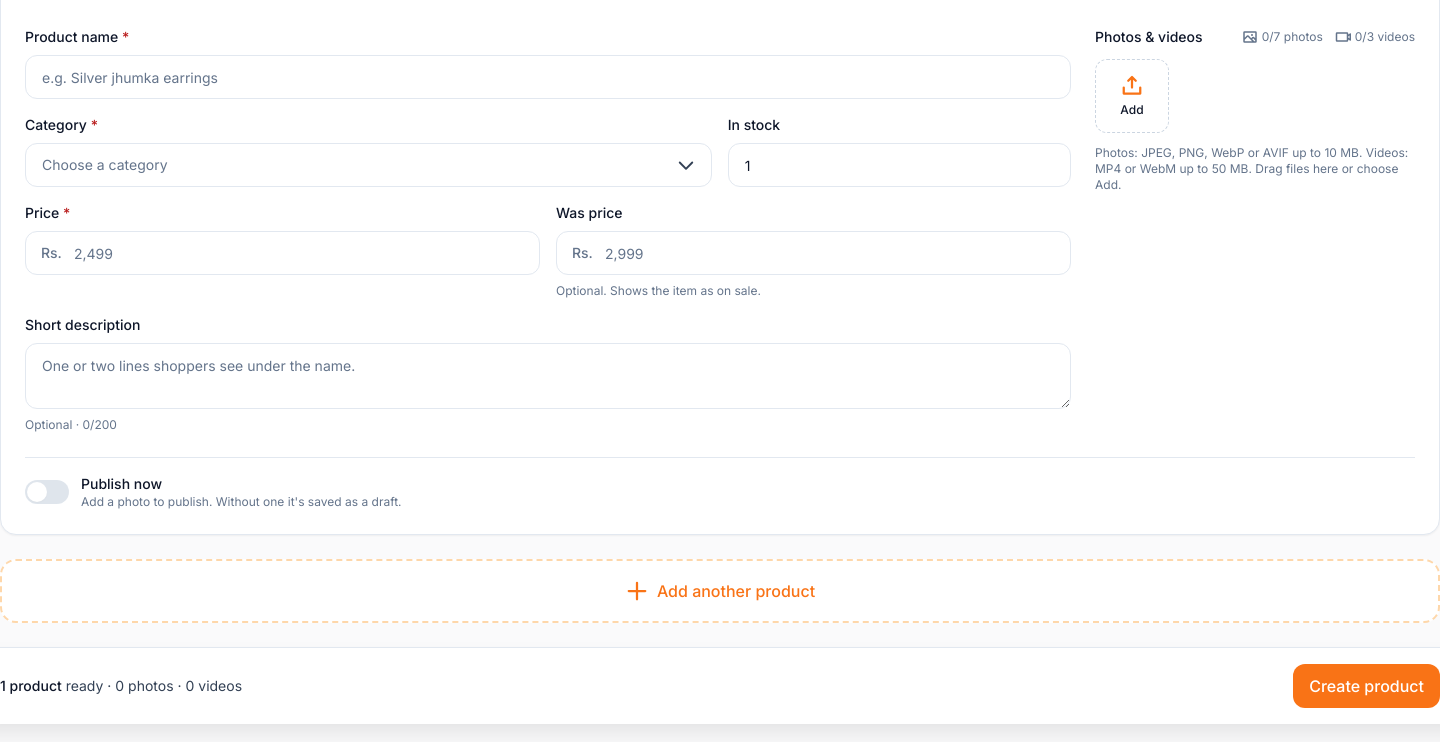
Scenario: BulkProductsForm › starts with one card and adds another at the end, focused, with the same category
Click the dropdown labelled "Choose a category" at (105, 164), box [25, 143, 712, 187]
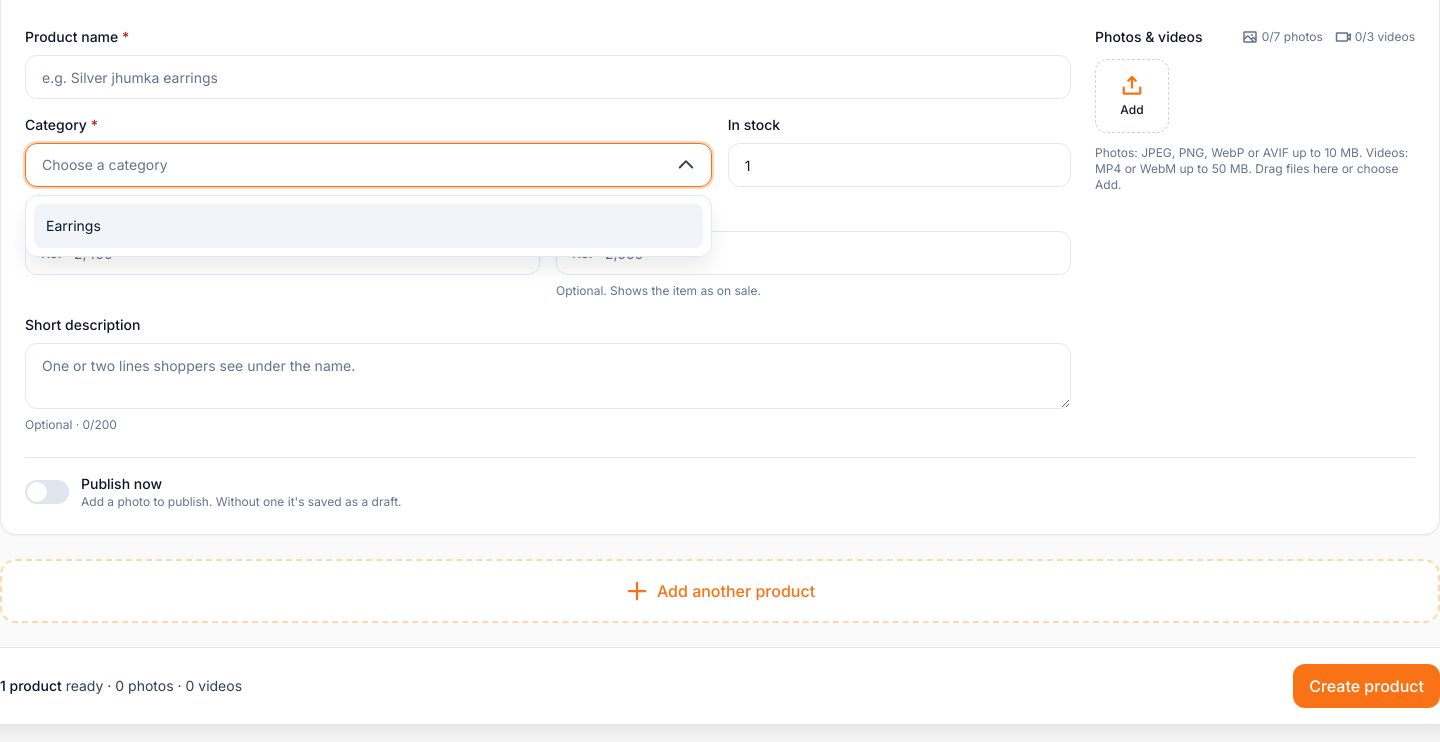
Click the option "Earrings" at (73, 226), box [34, 204, 703, 248]
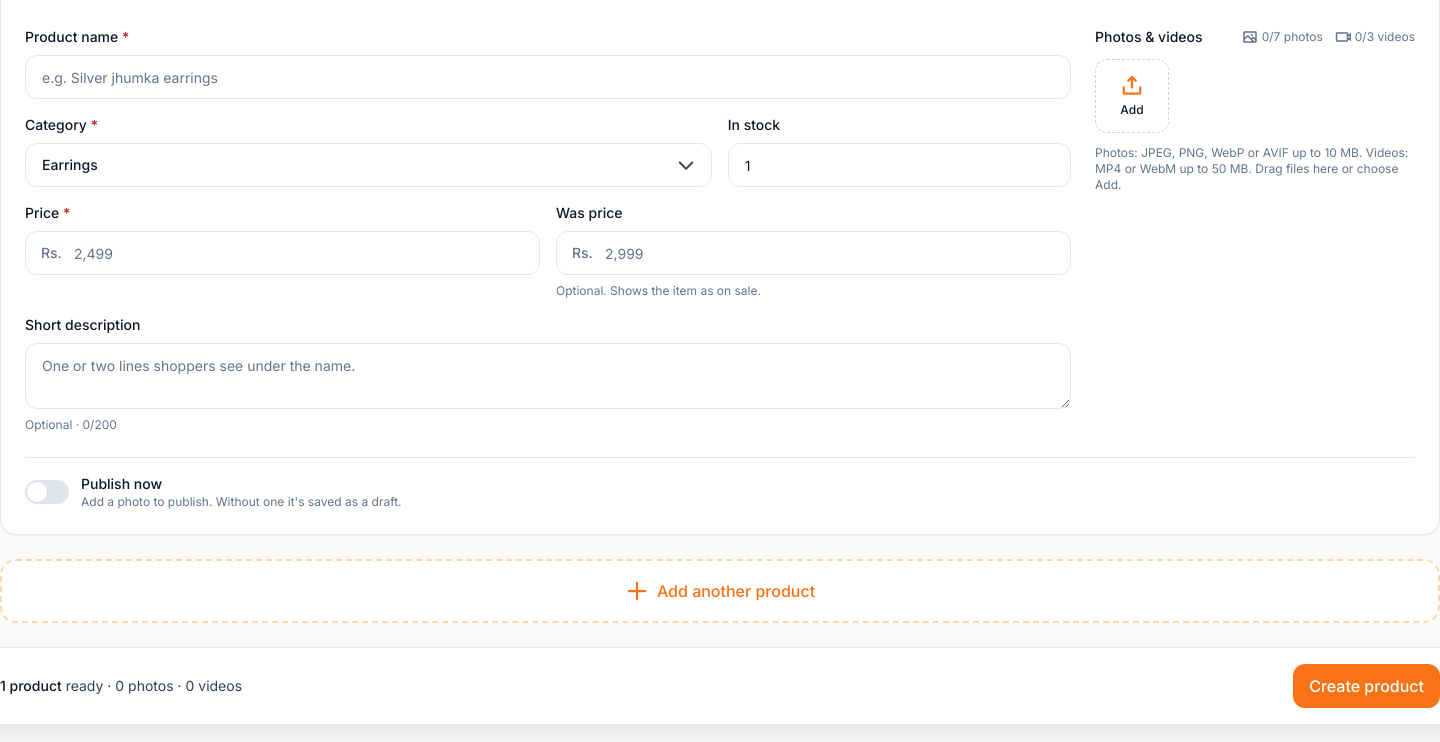
Click the button "Add another product" at (720, 591), box [0, 559, 1439, 623]
(page scrolled)
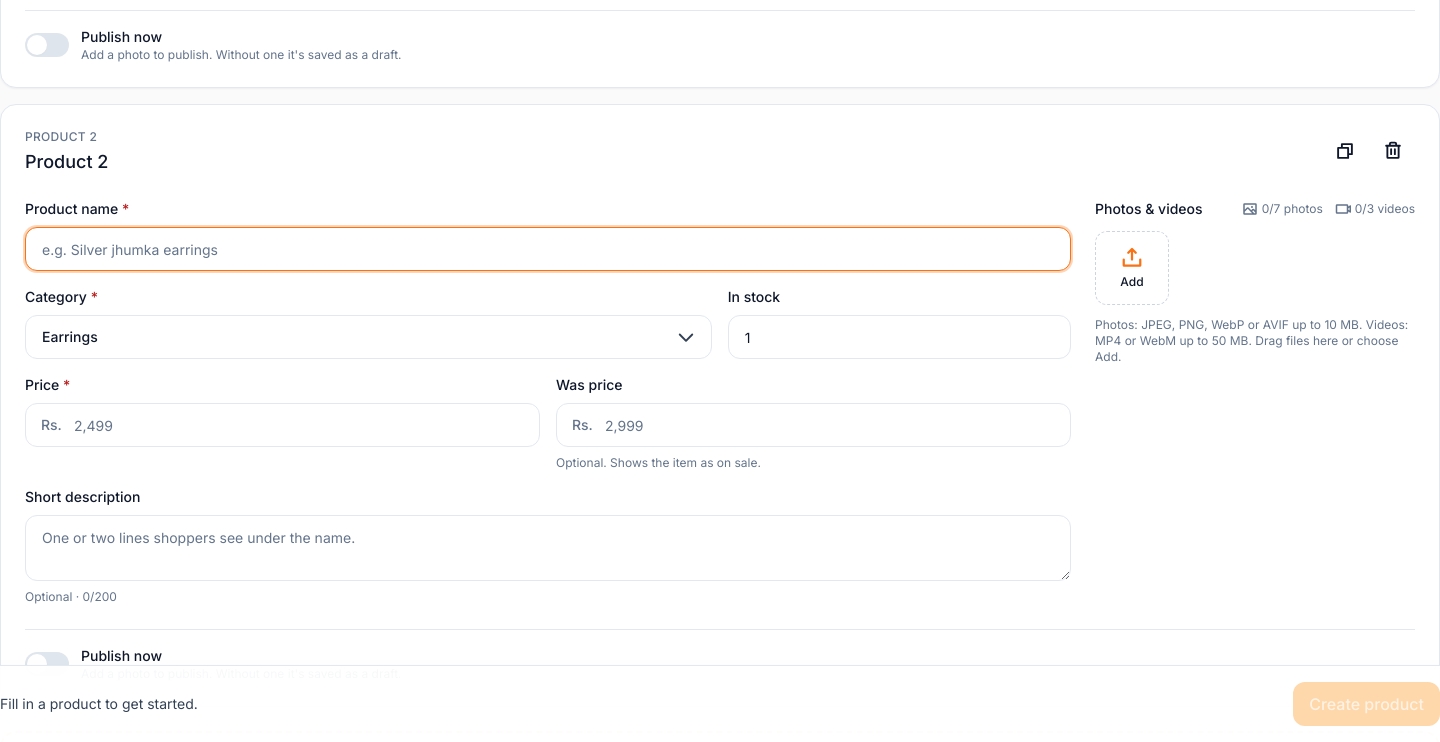
Expected: the dropdown named "Category" reads "Earrings", [25, 315, 712, 359]
